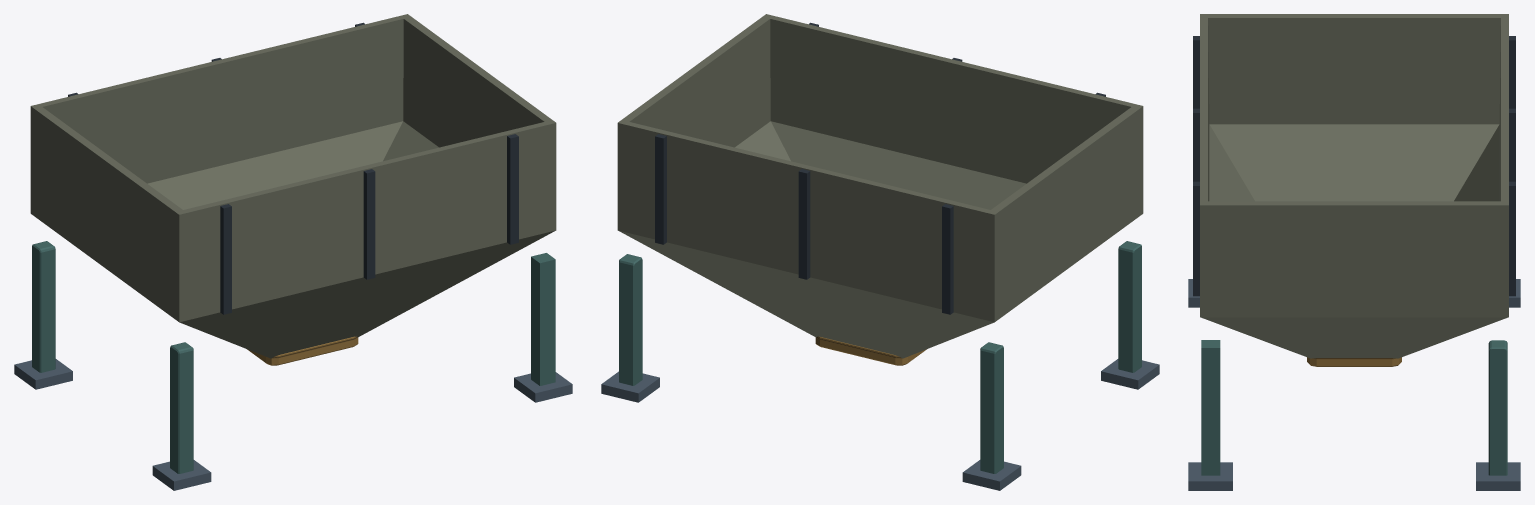
The model's file is HX-07_gravity_bin.glb.
The picture shows the model from 3 angles, left to right: view 1: azimuth 30°, elevation 25°; view 2: azimuth 150°, elevation 25°; view 3: azimuth 270°, elevation 25°; orthographic projection. The views are drawn at different scales.
Visible parts, largest first — view 1: HX-07_gravity_bin; view 2: HX-07_gravity_bin; view 3: HX-07_gravity_bin.
Part boxes in pixels (box(x1,y1,x2,y2)): HX-07_gravity_bin: box(14, 14, 572, 490); HX-07_gravity_bin: box(601, 14, 1159, 490); HX-07_gravity_bin: box(1188, 14, 1520, 490).
Size of the model in its own units: 3.53 by 2.28 by 2.45.
